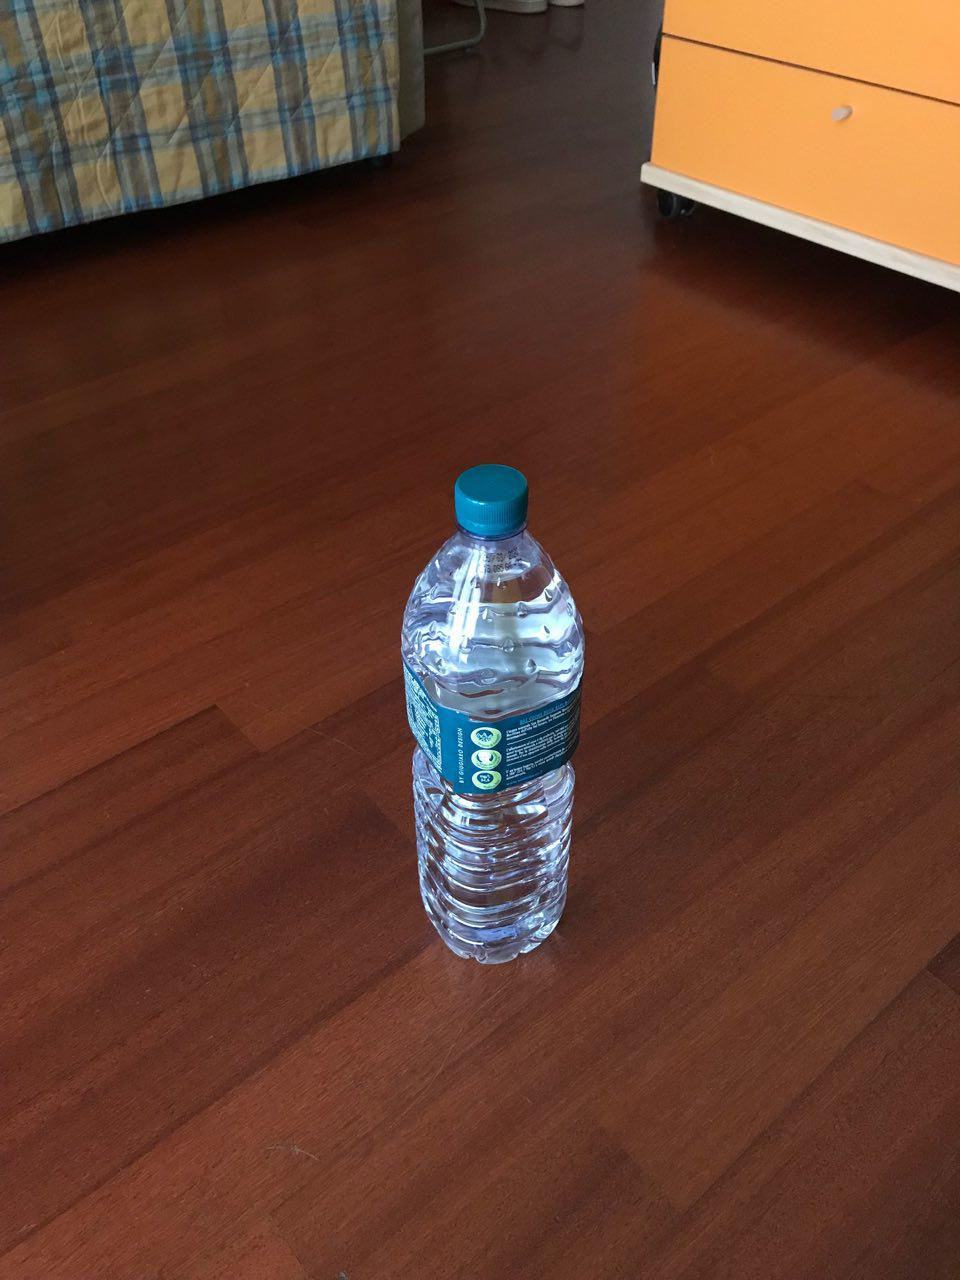san_bernardo: (398, 461, 586, 967)
